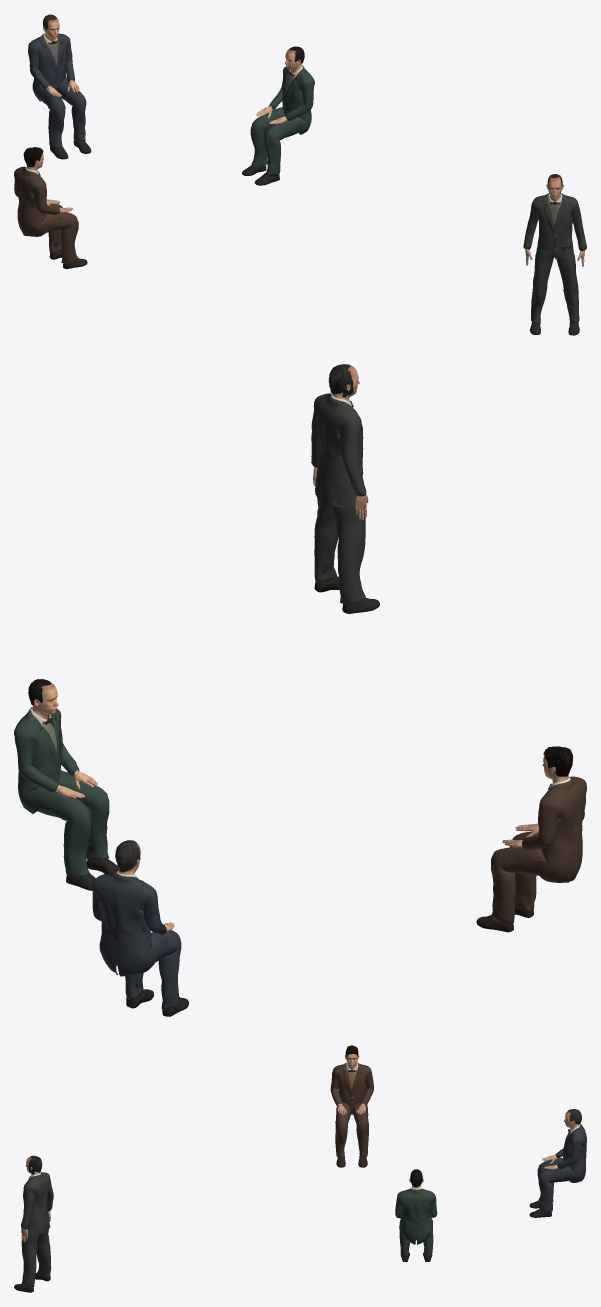
File: board-characters.glb
3 views of the same model, one above another, from view 1: azimuth 30°, elevation 25°; view 2: azimuth 150°, elevation 25°; view 3: azimuth 270°, elevation 25° (orthographic). The views are drawn at different scales.
Visible parts, largest first — view 1: board-snow_upper_Coat, board-snow_root_Coat, board-chair_upper_Coat, board-guardian_root_Coat, board-chair_root_Coat, board-tradesman_upper_Coat, board-guardian_upper_Coat, board-tradesman_root_Coat; view 2: board-snow_root_Coat, board-chair_upper_Coat, board-guardian_root_Coat, board-snow_upper_Coat, board-tradesman_upper_Coat, board-guardian_upper_Coat, board-tradesman_root_Coat, board-chair_root_Coat; view 3: board-tradesman_upper_Coat, board-snow_root_Coat, board-guardian_upper_Coat, board-snow_upper_Coat, board-chair_root_Coat, board-chair_upper_Coat, board-tradesman_root_Coat, board-guardian_root_Coat.
Part boxes in pixels (x1,y1,x2,y2): board-snow_upper_Coat: (523, 193, 586, 253); board-snow_root_Coat: (523, 245, 586, 324); board-chair_upper_Coat: (28, 33, 74, 96); board-guardian_root_Coat: (250, 114, 311, 176); board-chair_root_Coat: (32, 82, 86, 148); board-tradesman_upper_Coat: (14, 166, 71, 224); board-guardian_upper_Coat: (262, 65, 314, 125); board-tradesman_root_Coat: (17, 204, 78, 263); board-snow_root_Coat: (311, 460, 366, 604); board-chair_upper_Coat: (92, 872, 169, 955); board-guardian_root_Coat: (18, 782, 109, 877); board-snow_upper_Coat: (311, 393, 366, 494); board-tradesman_upper_Coat: (503, 776, 586, 865); board-guardian_upper_Coat: (14, 707, 93, 802); board-tradesman_root_Coat: (491, 833, 582, 924); board-chair_root_Coat: (99, 930, 181, 1009); board-tradesman_upper_Coat: (330, 1062, 373, 1117); board-snow_root_Coat: (21, 1209, 51, 1287); board-guardian_upper_Coat: (395, 1188, 437, 1233); board-snow_upper_Coat: (21, 1172, 53, 1226); board-chair_root_Coat: (537, 1160, 585, 1212); board-chair_upper_Coat: (547, 1124, 586, 1172); board-tradesman_root_Coat: (335, 1106, 368, 1158); board-guardian_root_Coat: (399, 1218, 433, 1258).
Bounding box in the file's own units: 4.44 × 1.77 × 7.12.
40 materials, 16 textured.
